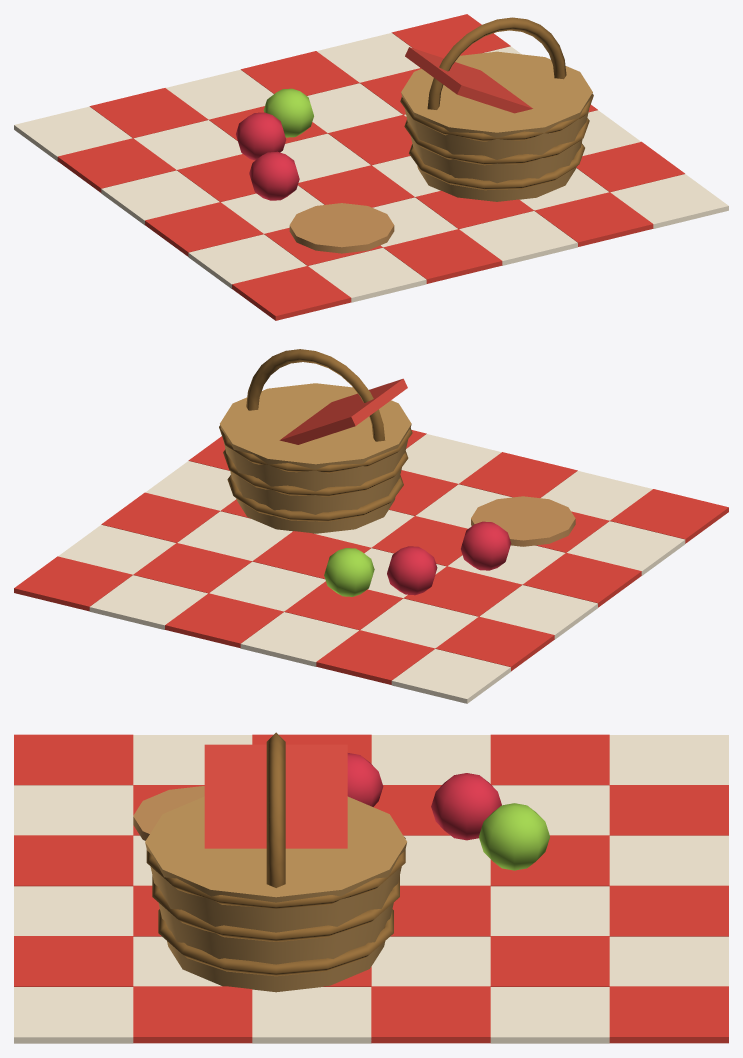
File: PicnicSet.glb
The picture shows the model from 3 angles, top to bottom: view 1: azimuth 30°, elevation 25°; view 2: azimuth 150°, elevation 25°; view 3: azimuth 270°, elevation 25°; orthographic projection. The views are drawn at different scales.
Parts seen in each view (by area): view 1: Body; view 2: Body; view 3: Body.
Part boxes in pixels (x1,y1,x2,y2): Body: (14,14,728,320); Body: (14,349,728,703); Body: (14,732,728,1043).
Bounding box in the file's own units: 3 × 0.975 × 3.
1 material, 1 textured.
